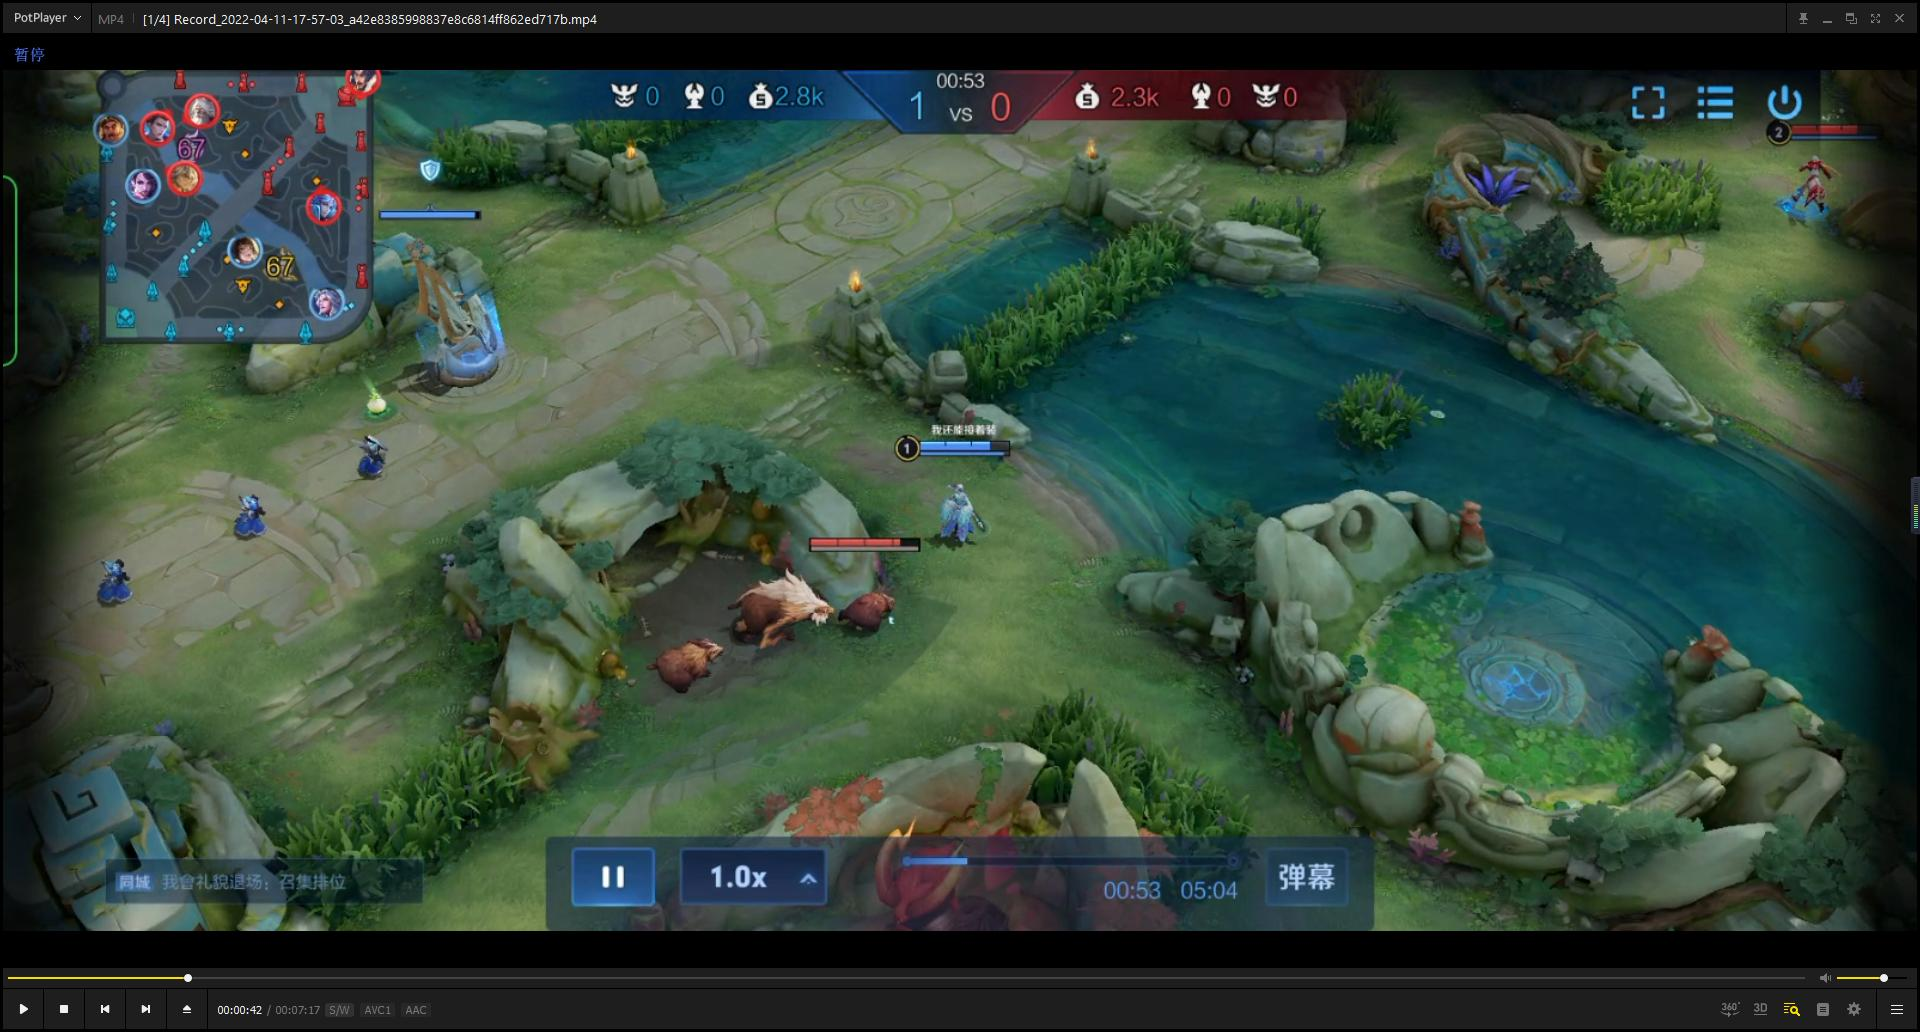Buff: (841, 813, 1010, 927)
Hero: (909, 472, 1017, 559), (1776, 147, 1850, 243)
Pig: (719, 552, 835, 670), (818, 560, 920, 657), (628, 618, 733, 704)
Solider: (333, 418, 417, 498), (210, 480, 287, 550), (85, 549, 151, 616)
Tower: (358, 189, 557, 413)
